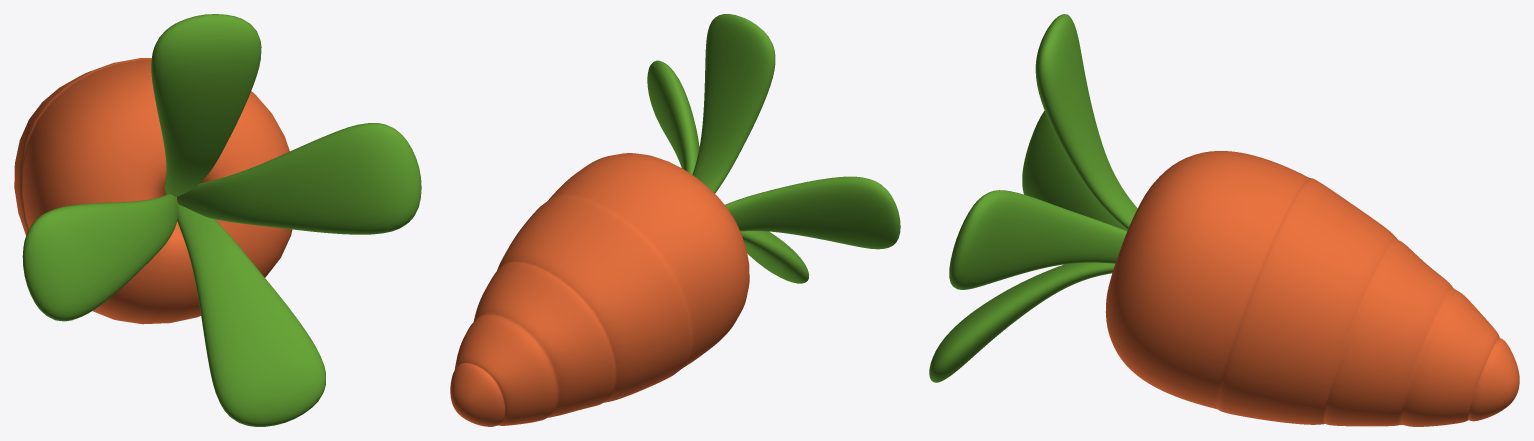
The model's file is zanahoria.fbx.
The picture shows the model from 3 angles, left to right: view 1: azimuth 30°, elevation 25°; view 2: azimuth 150°, elevation 25°; view 3: azimuth 270°, elevation 25°; orthographic projection. The views are drawn at different scales.
Parts seen in each view (by area): view 1: Leaf.004, Carrot.001; view 2: Carrot.001, Leaf.004; view 3: Carrot.001, Leaf.004.
Boxes of the visible parts, bbox=[...] form: Leaf.004: bbox=[22, 14, 421, 426]; Carrot.001: bbox=[14, 58, 292, 324]; Carrot.001: bbox=[450, 153, 749, 426]; Leaf.004: bbox=[647, 14, 900, 283]; Carrot.001: bbox=[1105, 151, 1519, 426]; Leaf.004: bbox=[929, 14, 1137, 382].
Bounding box in the file's own units: 8.77 × 9.06 × 13.27.
